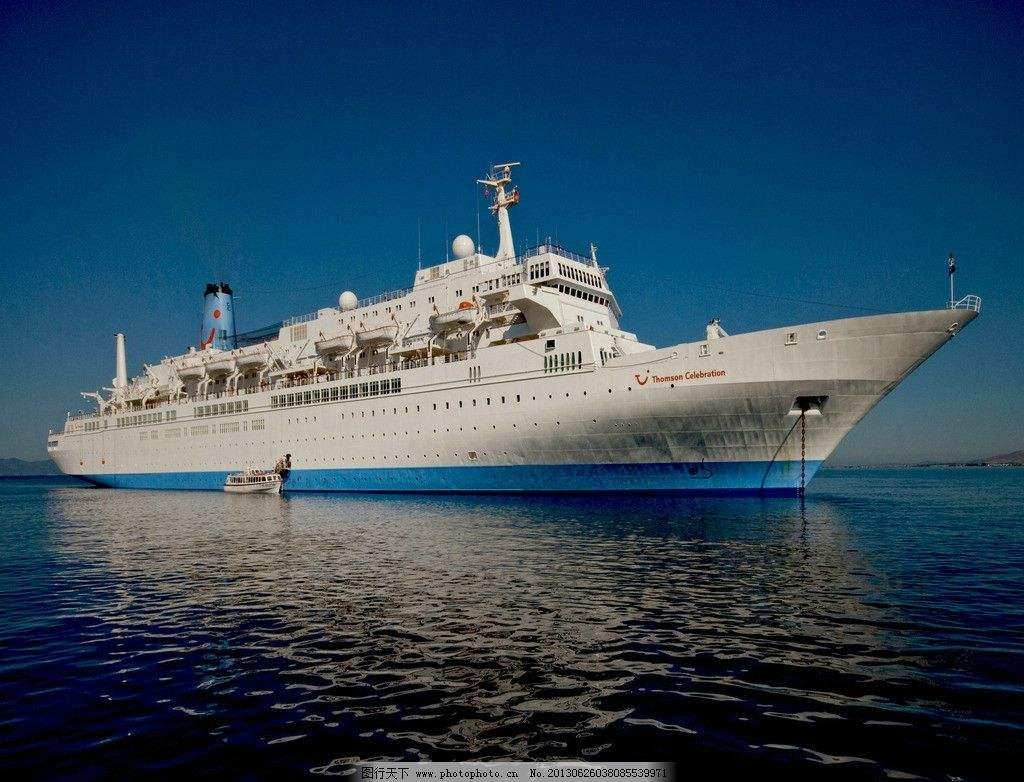youlun: (37, 169, 989, 500)
